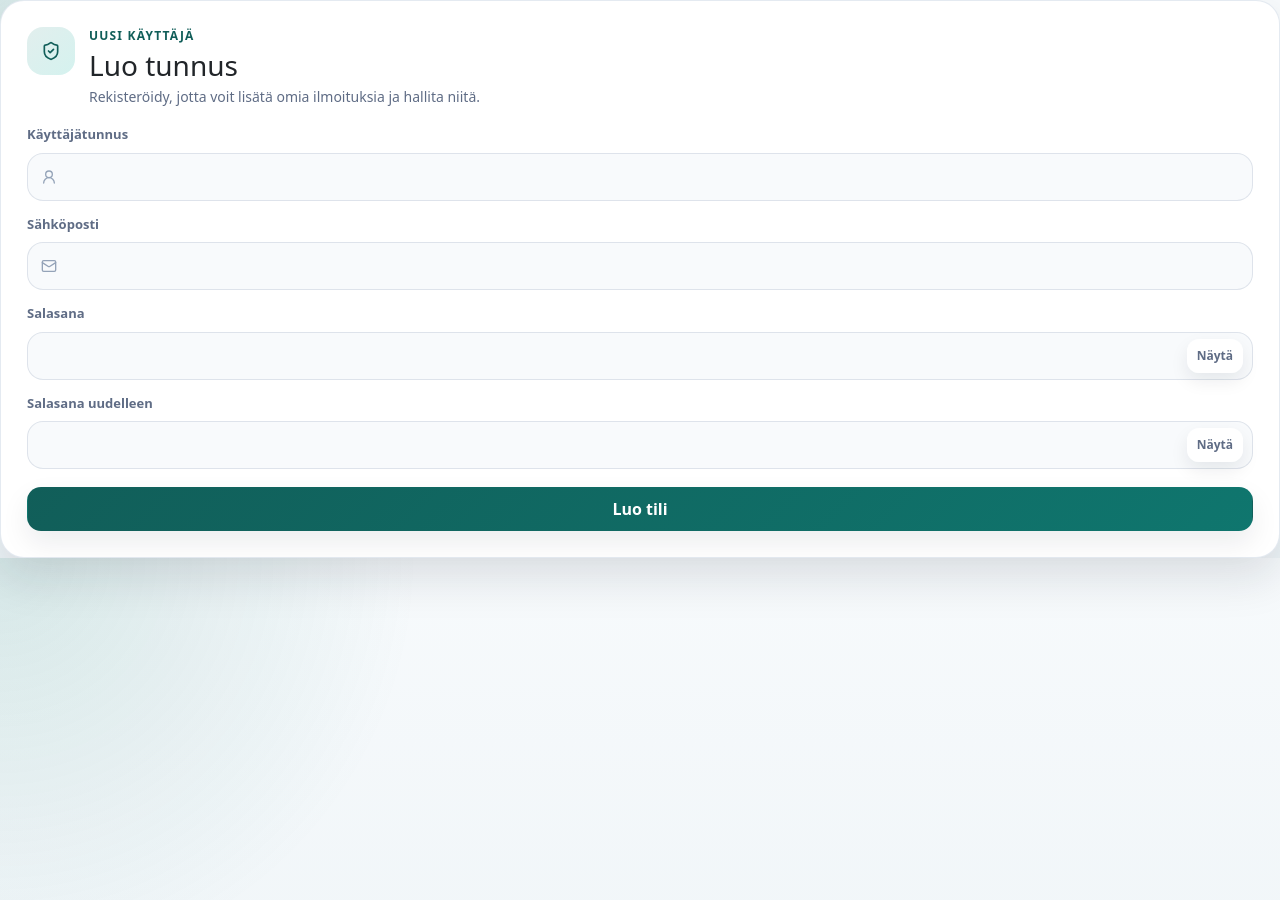
Test case: RegisterPage - virhetilanne › nayttaa virheilmoituksen kun rekisterointi epaonnistuu
This screenshot has width=1280, height=900.
Type "testikayttaja" into the field labelled "Käyttäjätunnus" at x=640, y=177, box [27,153,1253,201]
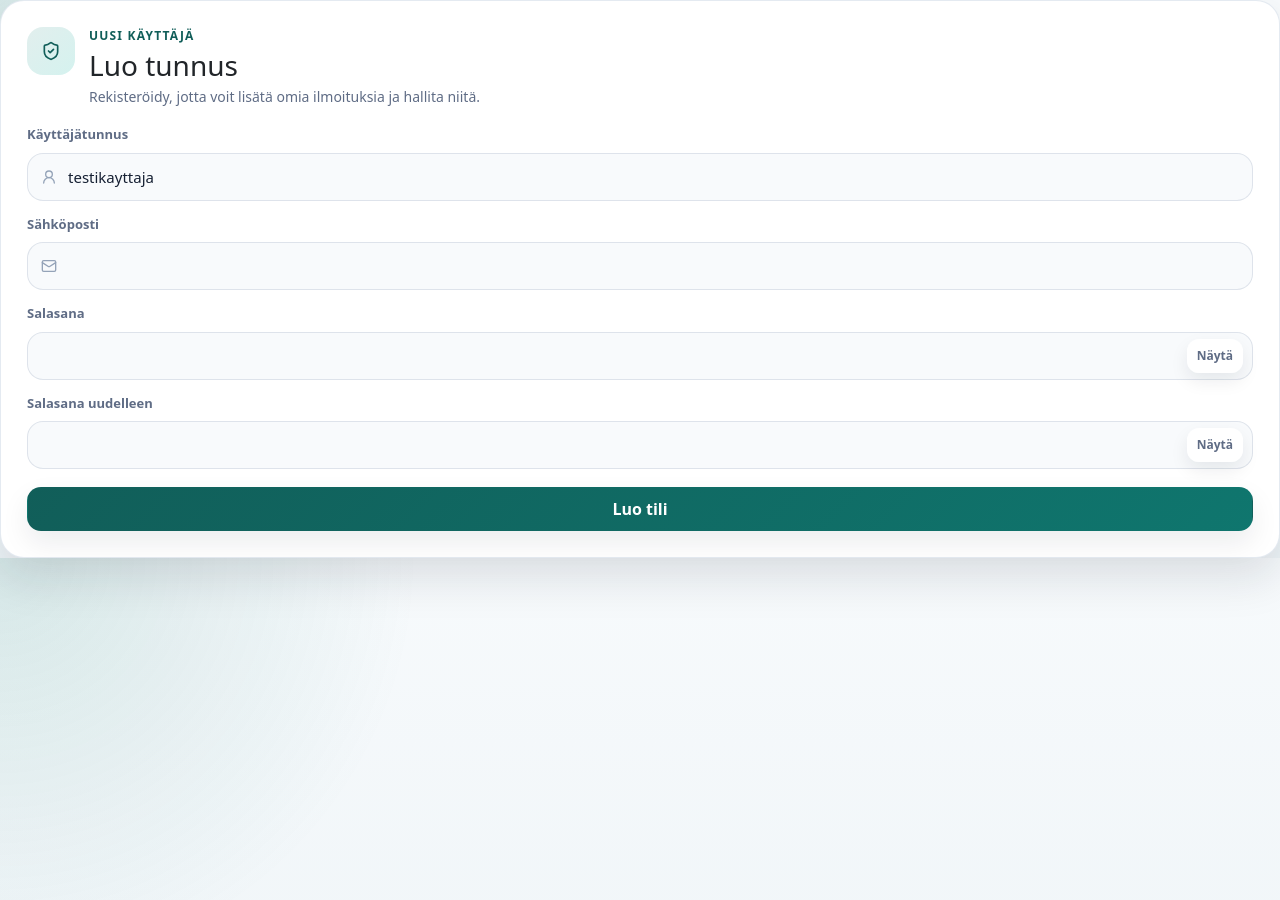
Type "testi@testi.fi" into the field labelled "Sähköposti" at x=640, y=266, box [27,242,1253,290]
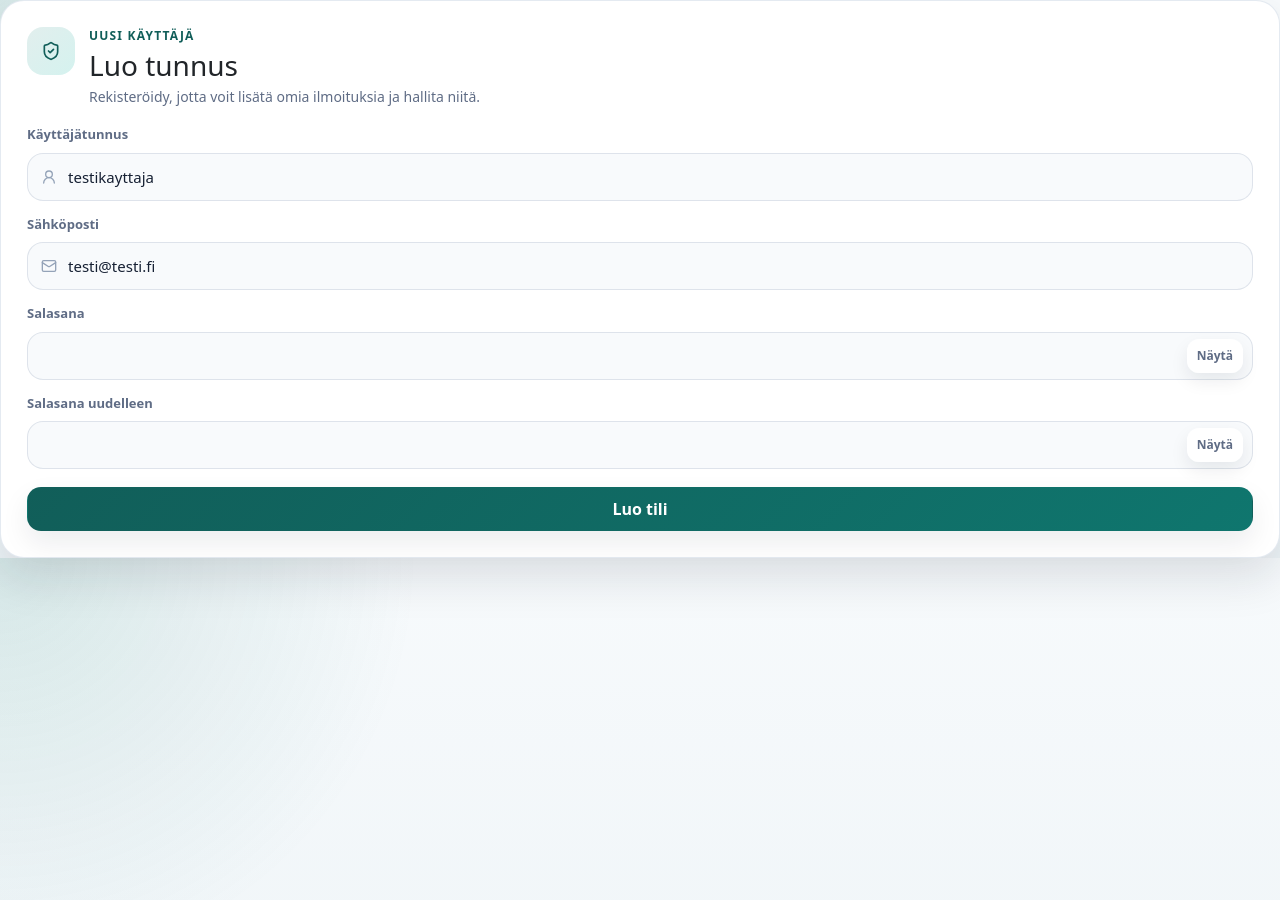
Type "salasana123" into the password field labelled "Salasana Näytä" at x=640, y=356, box [27,332,1253,380]
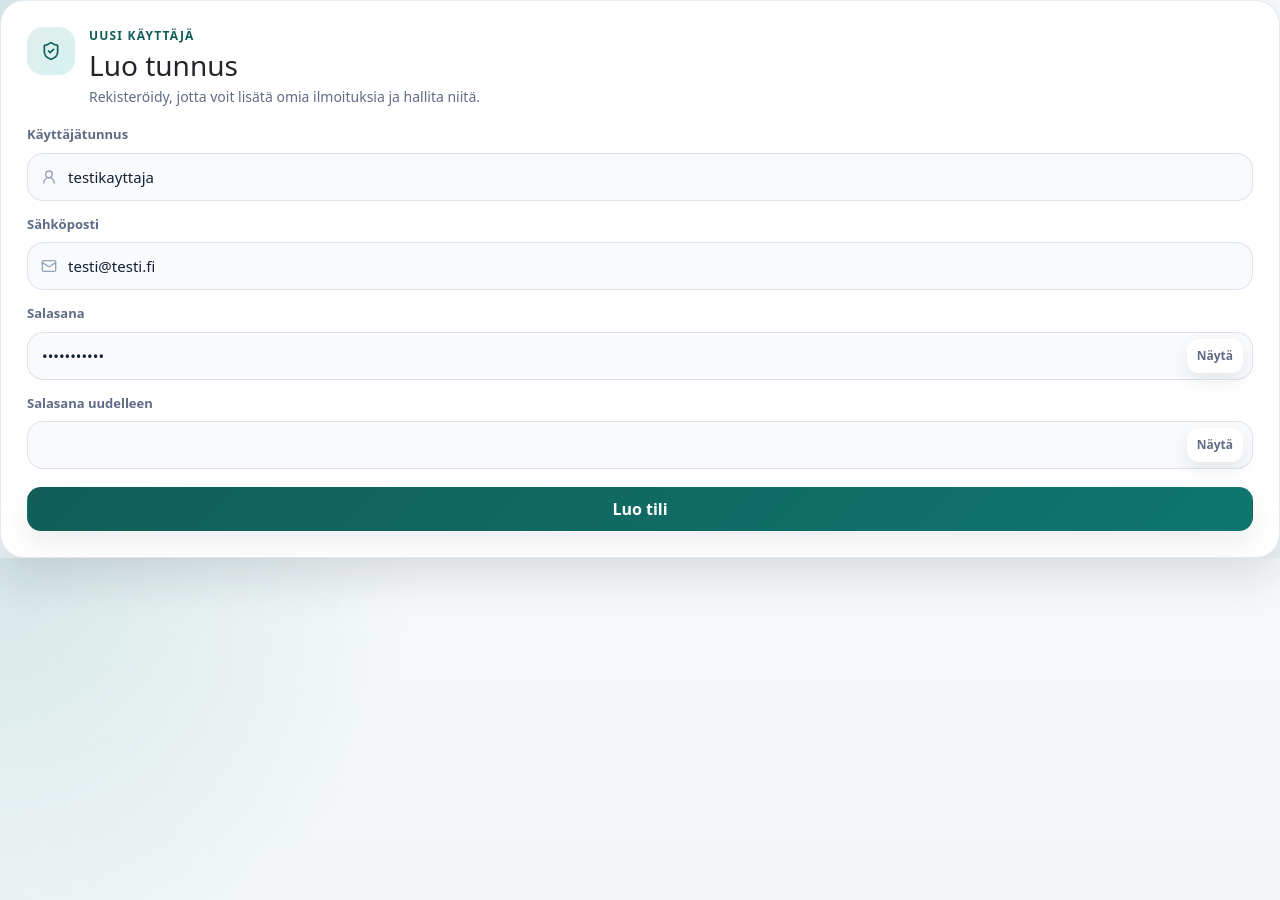
Type "salasana123" into the password field labelled "Salasana uudelleen Näytä" at x=640, y=445, box [27,421,1253,469]
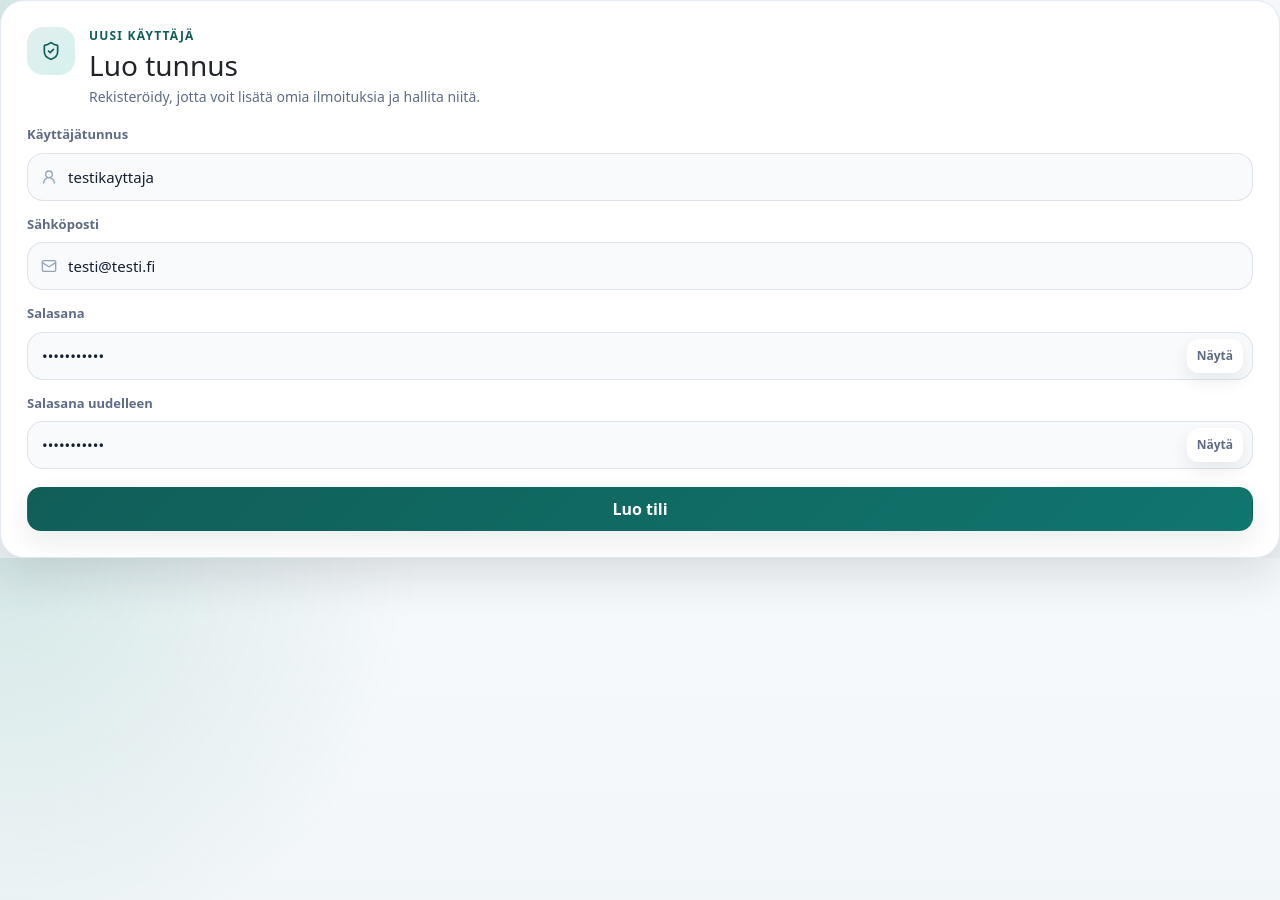
Click the button "Luo tili" at x=640, y=509, box [27,487,1253,531]
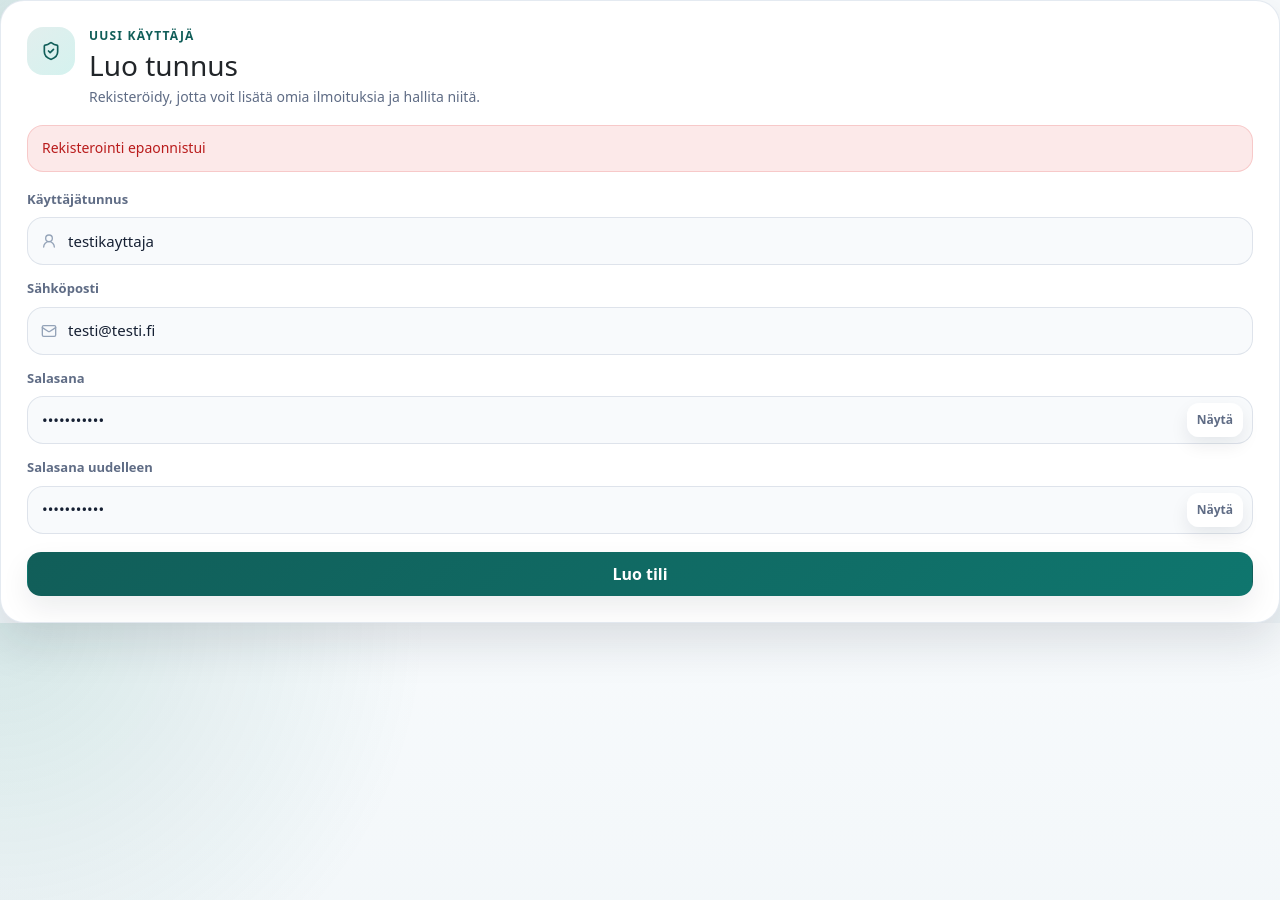
Check: the text "Rekisterointi epaonnistui" is shown, box [27,125,1253,172]
